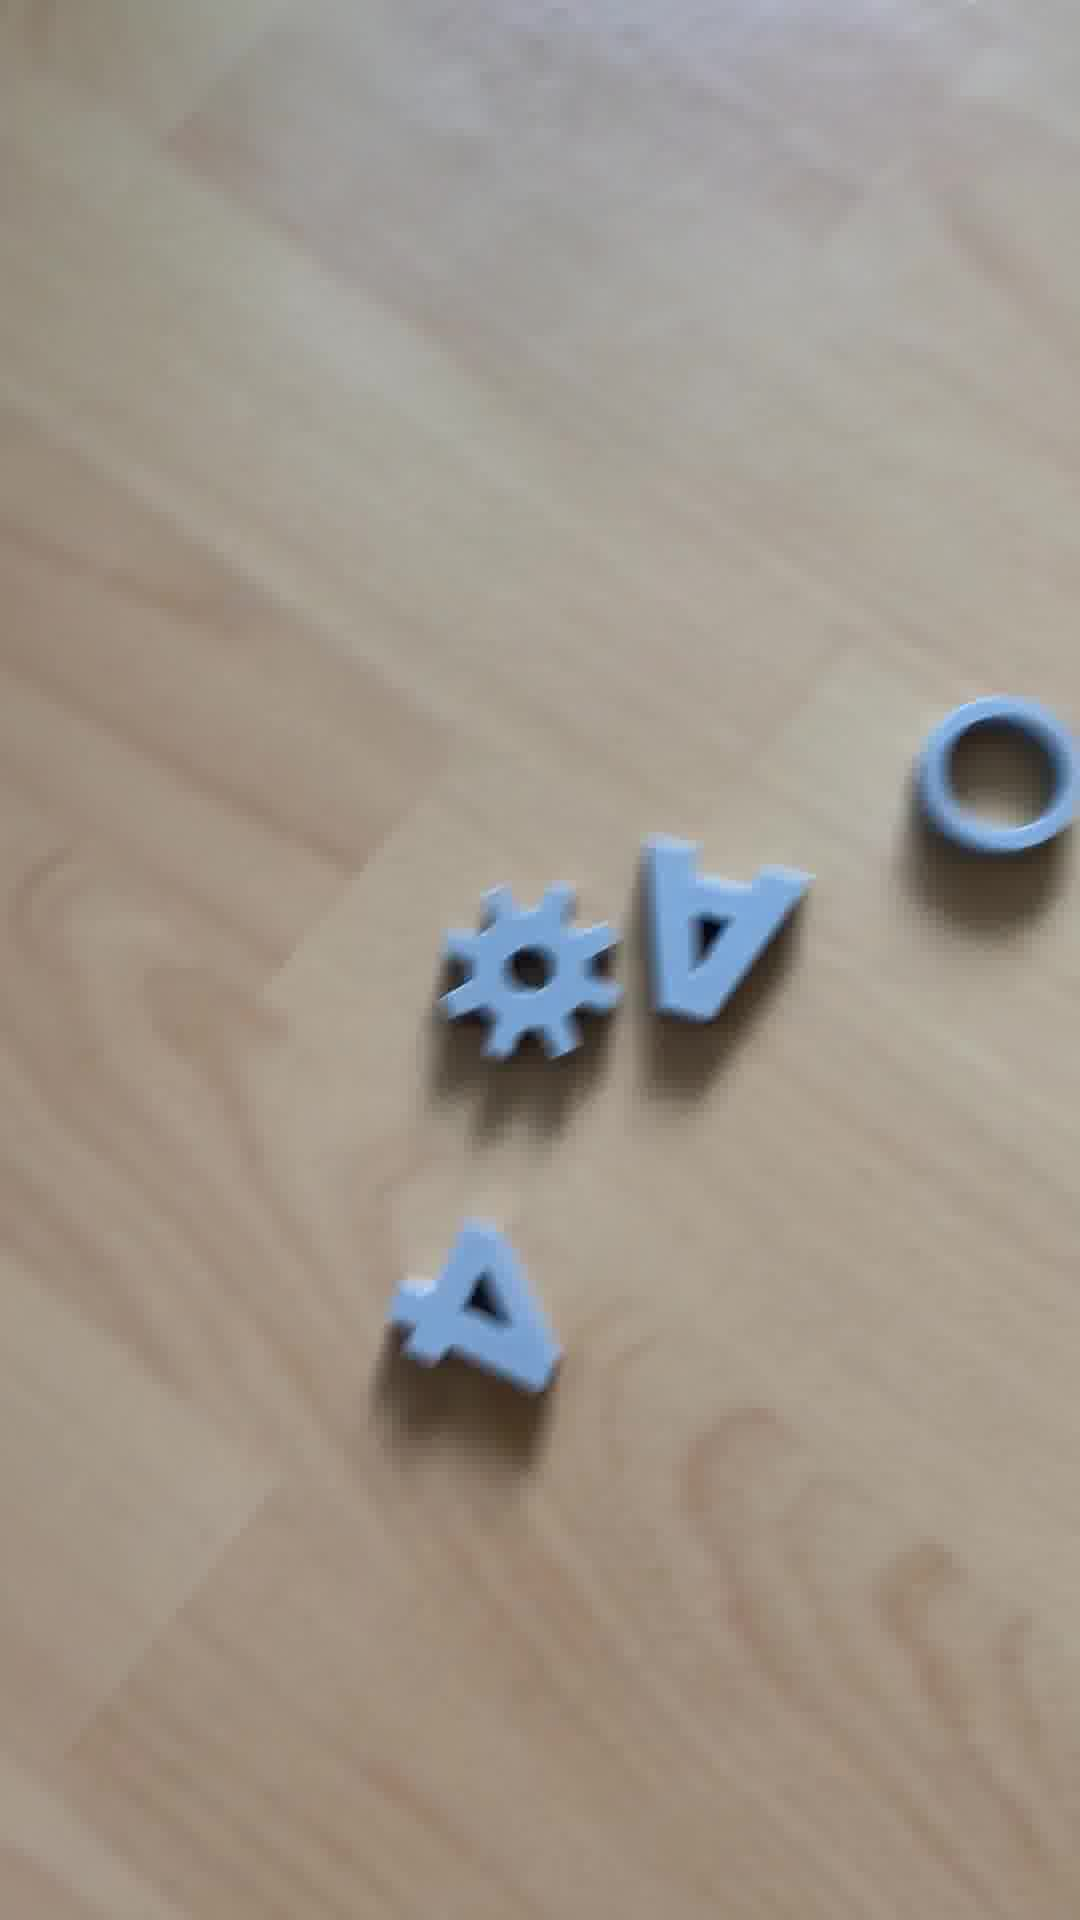Gray A-letter: (626, 852, 802, 1034)
Gray four: (375, 1218, 578, 1410)
Gray gear: (440, 881, 608, 1073)
Gray ring: (909, 702, 1080, 861)
